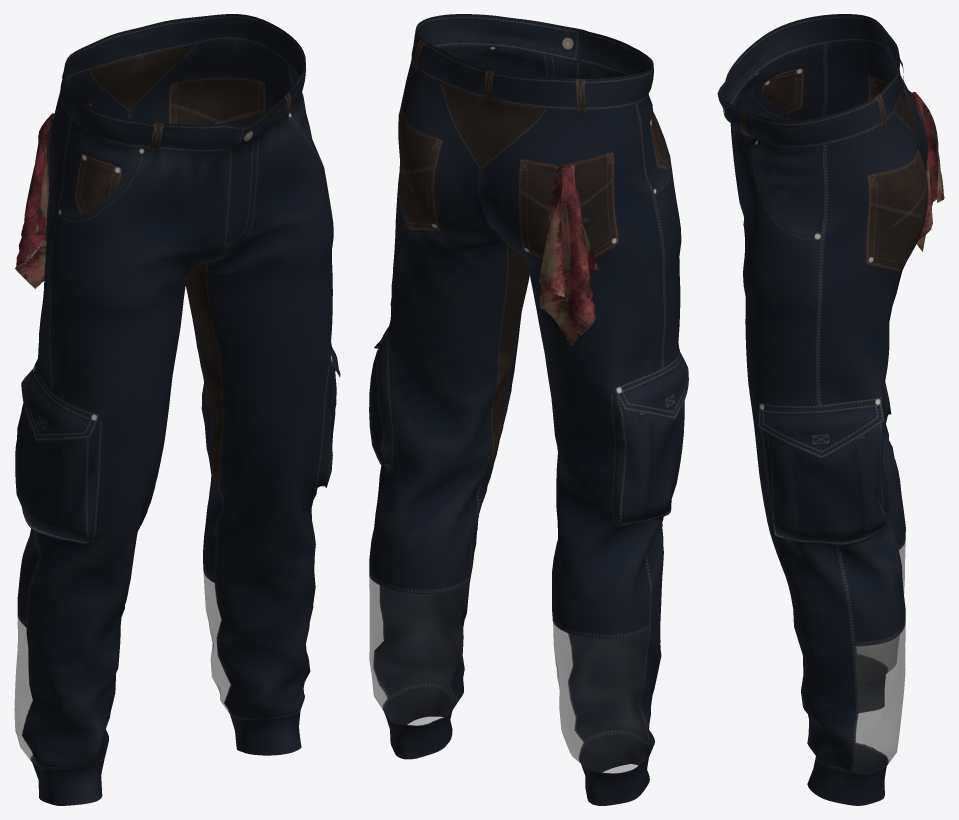
The model's file is cargo.glb.
3 views of the same model, side by side, from view 1: azimuth 30°, elevation 25°; view 2: azimuth 150°, elevation 25°; view 3: azimuth 270°, elevation 25° (orthographic). The views are drawn at different scales.
Parts seen in each view (by area): view 1: Object_2; view 2: Object_2; view 3: Object_2.
Boxes of the visible parts, x1,y1,x2,y2 form: Object_2: (14, 14, 340, 805); Object_2: (369, 14, 688, 805); Object_2: (717, 14, 944, 805).
Bounding box in the file's own units: 0.4031 × 0.964 × 0.2862.
1 material, 1 textured.
